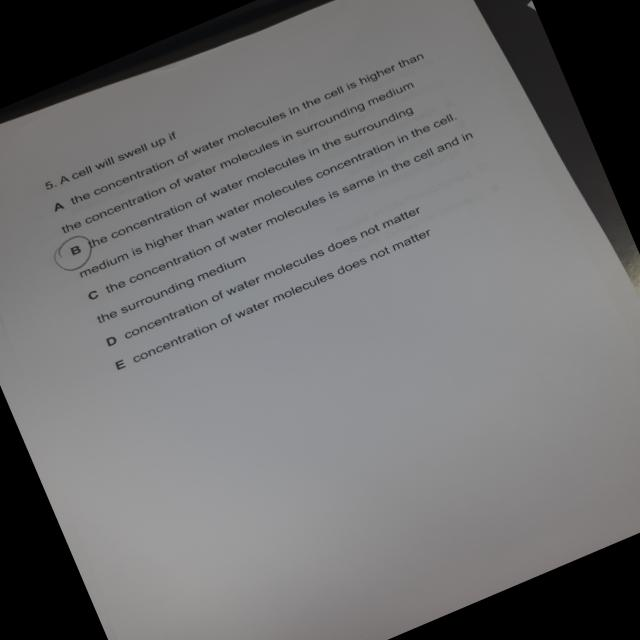B: (48, 230, 102, 277)
